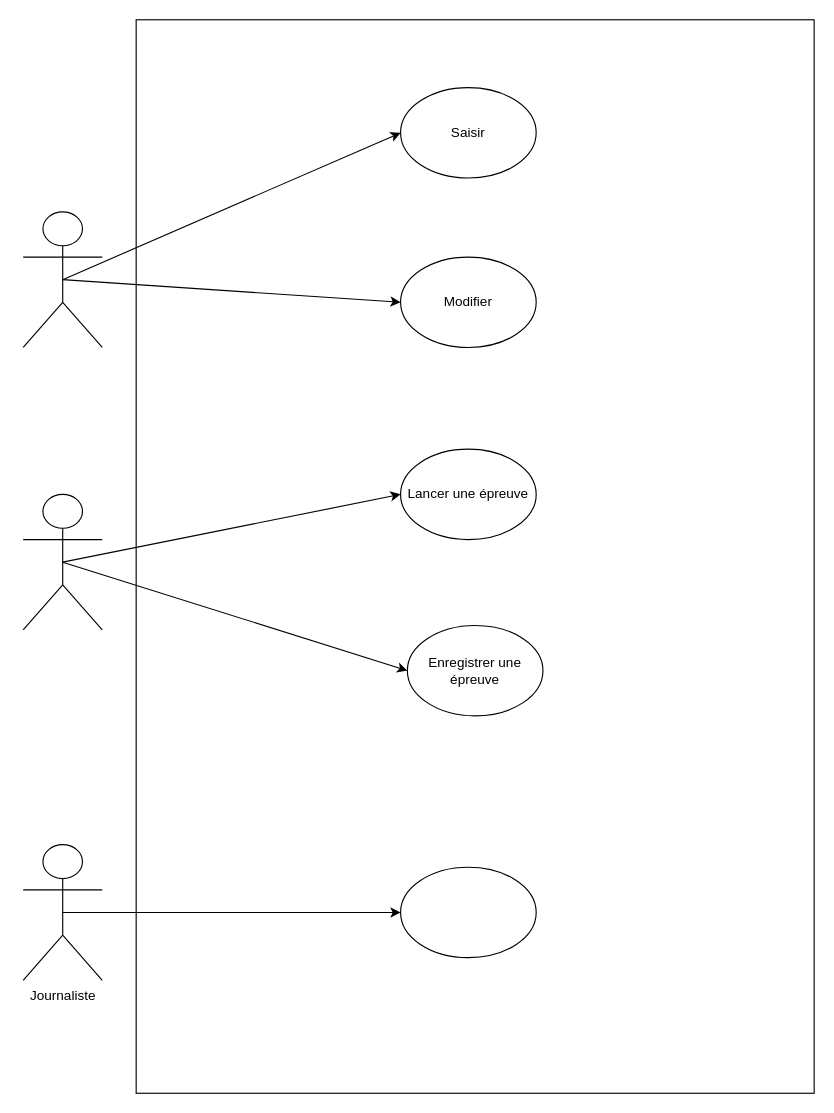
This 834x1113 diagram has some shape labels left out. The shapes that lost their labels are listed below. From the top down, each one's centre as x and y in pixels, then its label:
(62,279): Administrateur
(62,561): Organisateur
(467,912): Consulter
